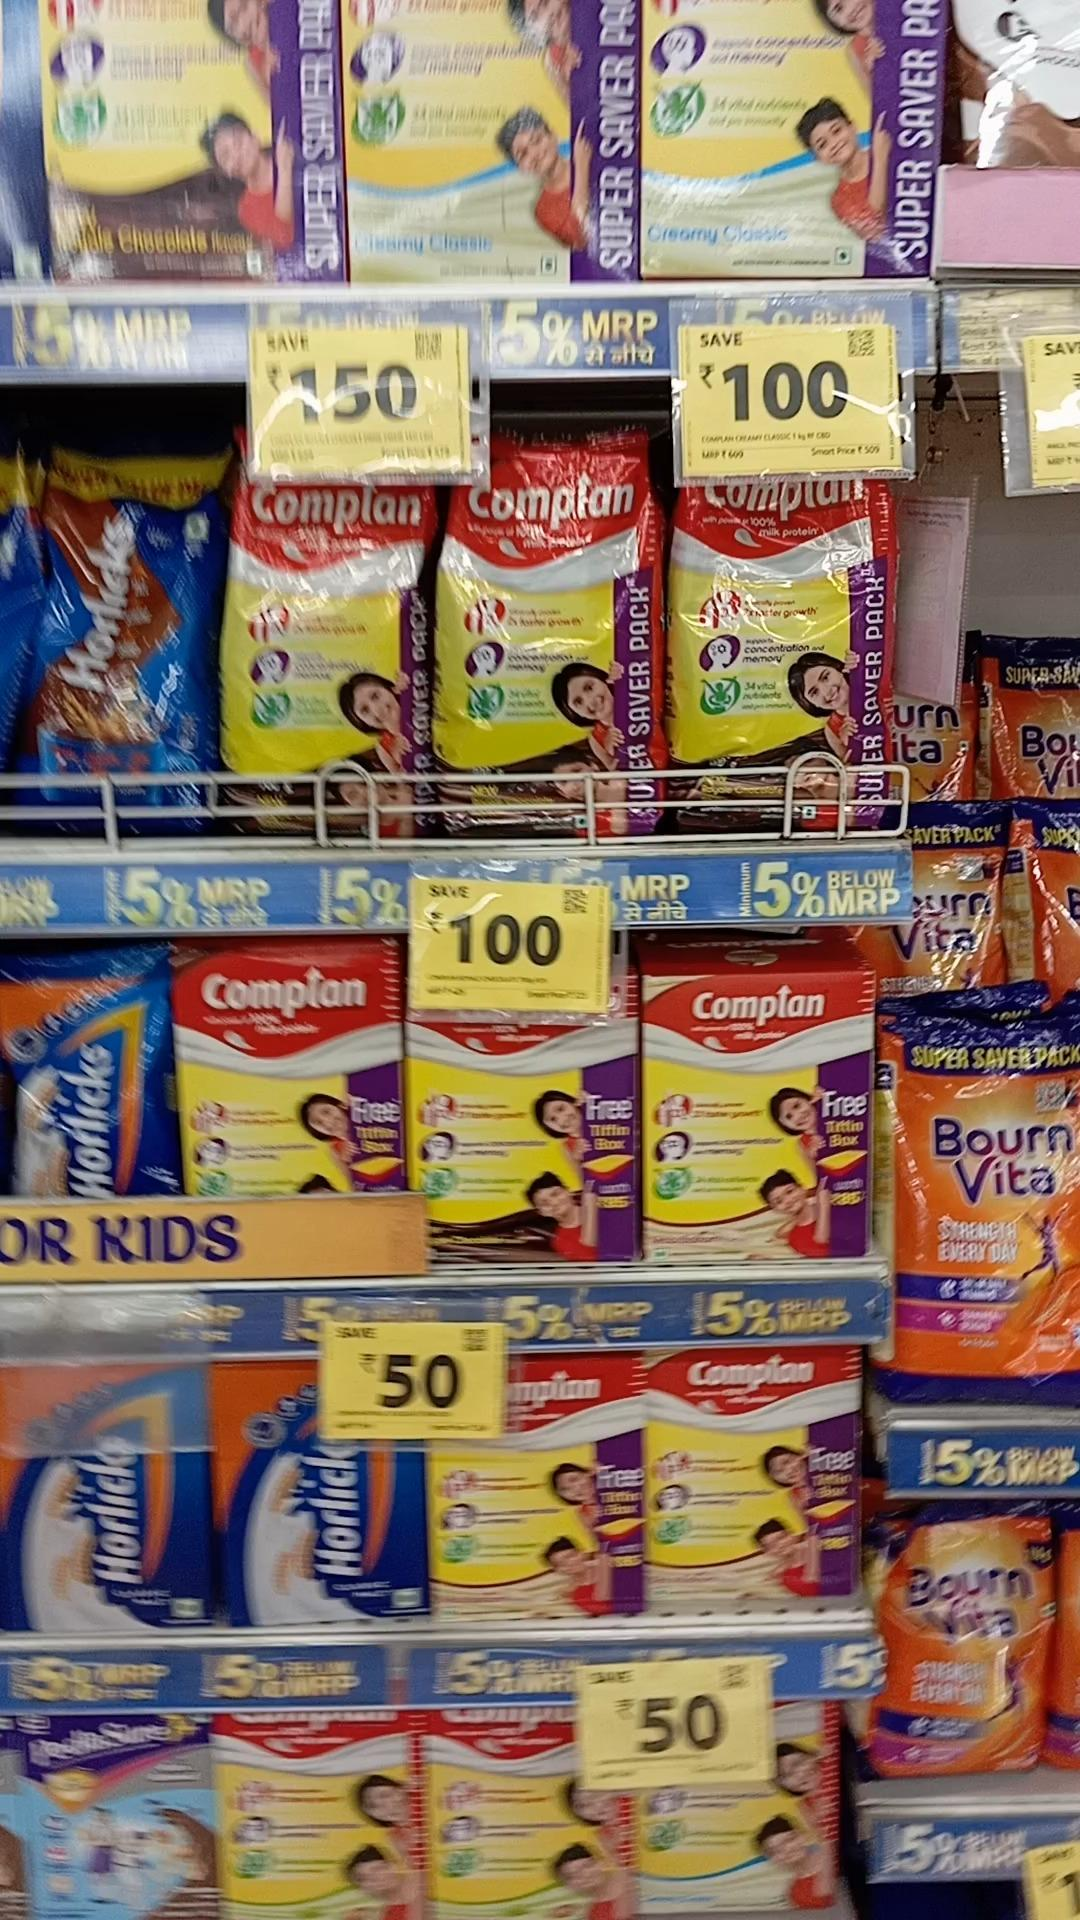BOURN_VITA_1_KG_POUCH: (884, 1018, 1080, 1404)
BOURN_VITA_750_G_POUCH: (877, 1501, 1056, 1772)
COMPLAN_CHOCOLATE_500_GMS_PACK: (174, 940, 400, 1195), (406, 1017, 630, 1267)
COMPLAN_CREAMY_CLASSIC_500_G_PACK: (629, 1718, 849, 1920)
COMPLAN_KESAR_BADAM_500_GMS_PACK: (640, 977, 868, 1267), (646, 1349, 865, 1613), (433, 1357, 641, 1623)
COMPLAN_PISTA_BADAM_500_GMS_PACK: (216, 1709, 427, 1920), (430, 1710, 625, 1920)
COMPLAN_RC_POUCH_700_GMS_12: (438, 439, 667, 841), (666, 476, 889, 832), (220, 471, 429, 829)
HORLICK_CHOCOLATE_750_G_POUCH: (30, 444, 207, 833)
HORLICK_CLASSIC_MALT_500_G_PACK: (0, 1357, 215, 1635), (219, 1362, 425, 1625)
HORLICK_CLASSIC_MALT_750_G_POUCH: (0, 944, 165, 1203)
PEDIASURE_7_PLUS_CHOCOLATE_400_G_PACK: (29, 1716, 206, 1920)
